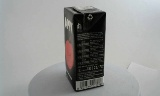appy: (58, 5, 99, 92)
